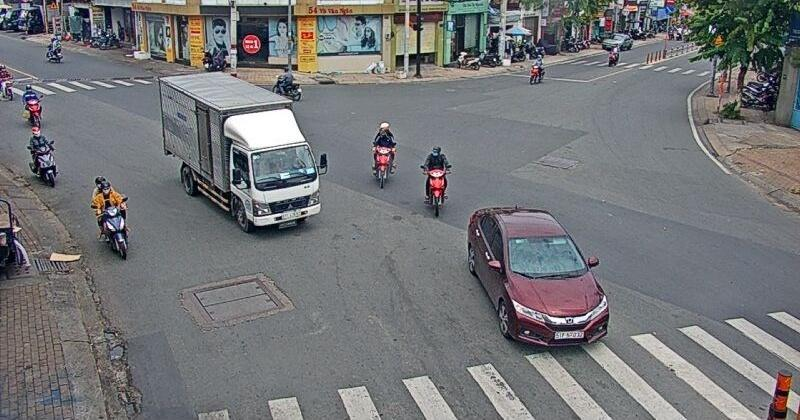xe hoi: (467, 206, 608, 343)
xe may: (89, 175, 128, 259), (419, 145, 453, 216), (25, 126, 56, 187), (370, 121, 397, 188), (272, 66, 302, 101), (21, 84, 43, 127), (529, 54, 545, 84)
xe tai: (159, 71, 321, 232)
